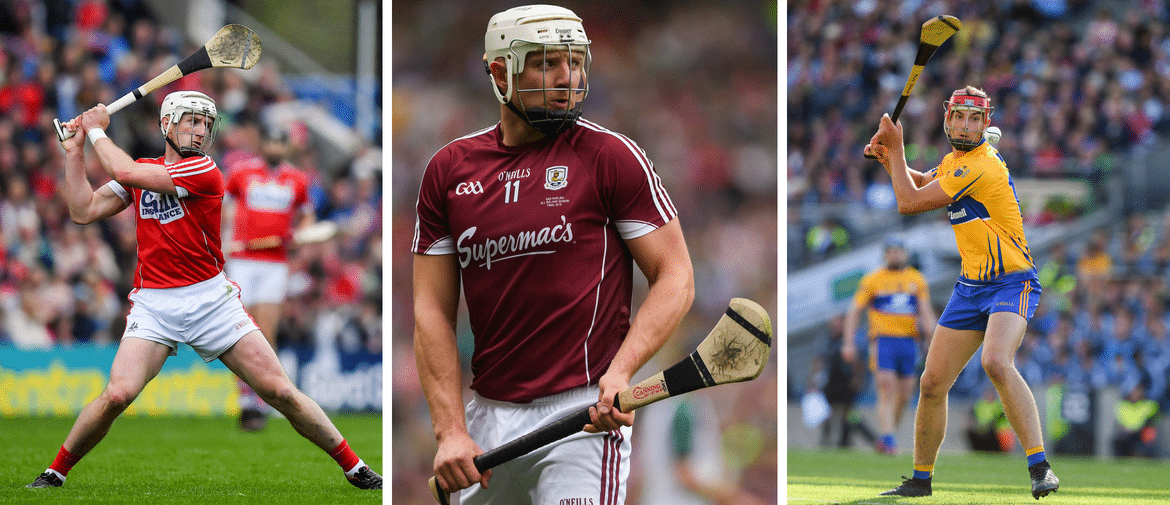hurley: (428, 294, 774, 502), (50, 18, 265, 142), (860, 12, 962, 160)
